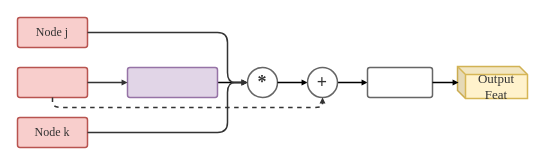
Image size: 546x166. Some labels were removed from this diagram. Here are the shapes that lost their labels. From the top down, the centre of each, then its label:
At pixel 52 82: "Node i".
At pixel 172 82: "Attn Weights".
At pixel 399 82: "Activation".
